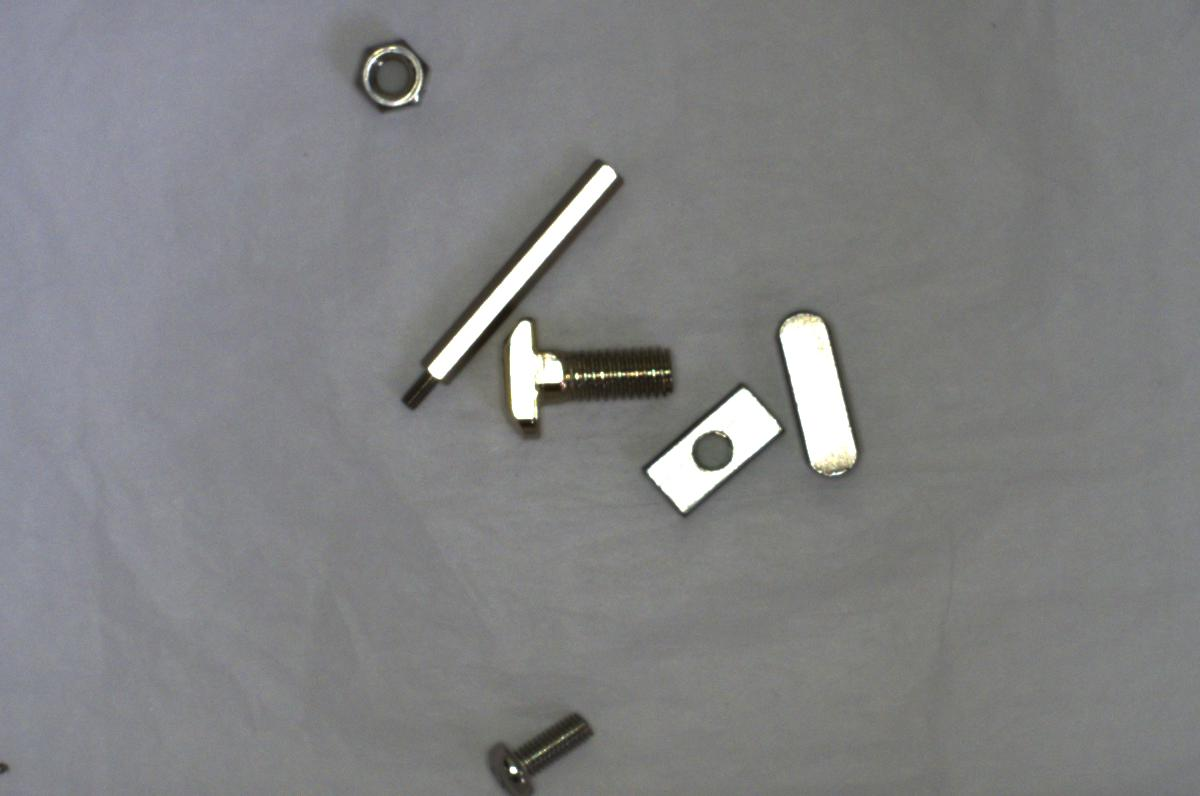Hexagon nut: (344, 29, 445, 120)
Hexagonal steel column: (387, 159, 620, 425)
Keybar: (765, 302, 873, 492)
Rectangular nut: (638, 379, 784, 508)
Round head screw: (473, 705, 597, 795)
T-shaped screw: (494, 310, 682, 438)
